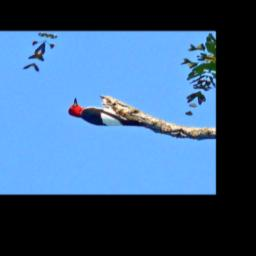Woodpecker: (54, 93, 171, 141)
